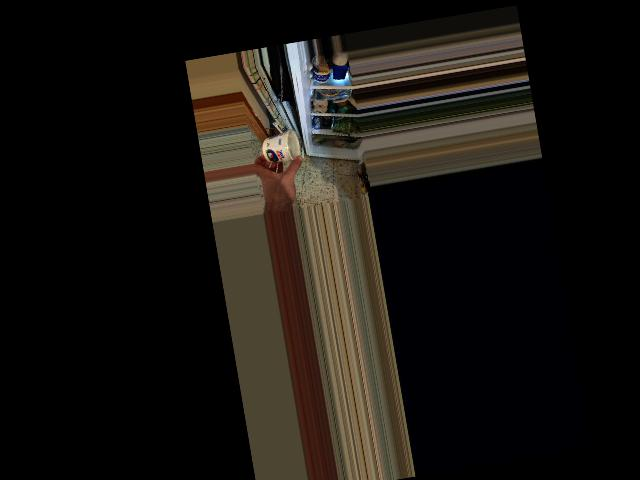cotage: (260, 130, 305, 165)
